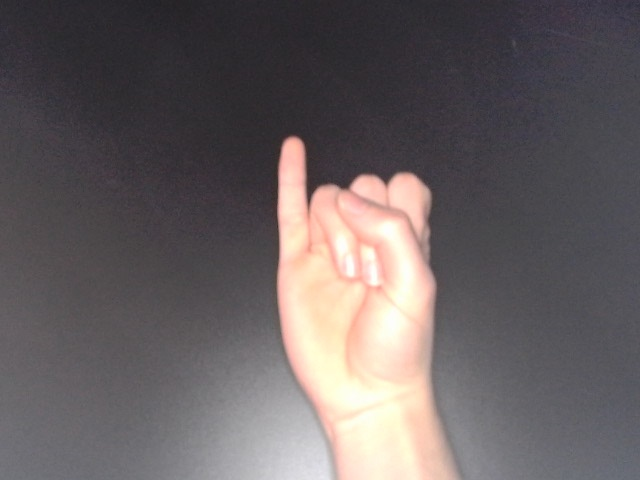i: (270, 133, 442, 431)
